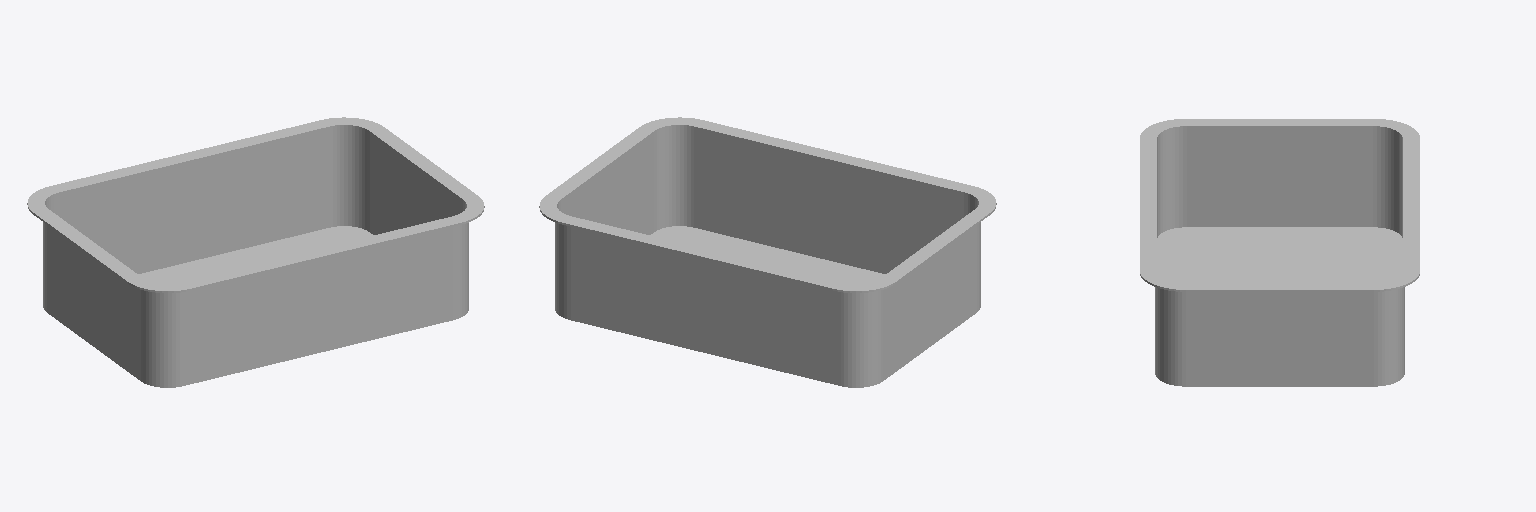
Rendered from Weegbakje 1.obj.
The picture shows the model from 3 angles: view 1: azimuth 30°, elevation 25°; view 2: azimuth 150°, elevation 25°; view 3: azimuth 270°, elevation 25°; orthographic projection.
Parts seen in each view (by area): view 1: Mesh1 Group1 sterile_plastic_tray1 Model; view 2: Mesh1 Group1 sterile_plastic_tray1 Model; view 3: Mesh1 Group1 sterile_plastic_tray1 Model.
Boxes of the visible parts, x1=… form: Mesh1 Group1 sterile_plastic_tray1 Model: x1=27, y1=117, x2=484, y2=387; Mesh1 Group1 sterile_plastic_tray1 Model: x1=539, y1=117, x2=996, y2=387; Mesh1 Group1 sterile_plastic_tray1 Model: x1=1140, y1=119, x2=1419, y2=386.
Size of the model in its own units: 6.5 by 1.83 by 4.5.